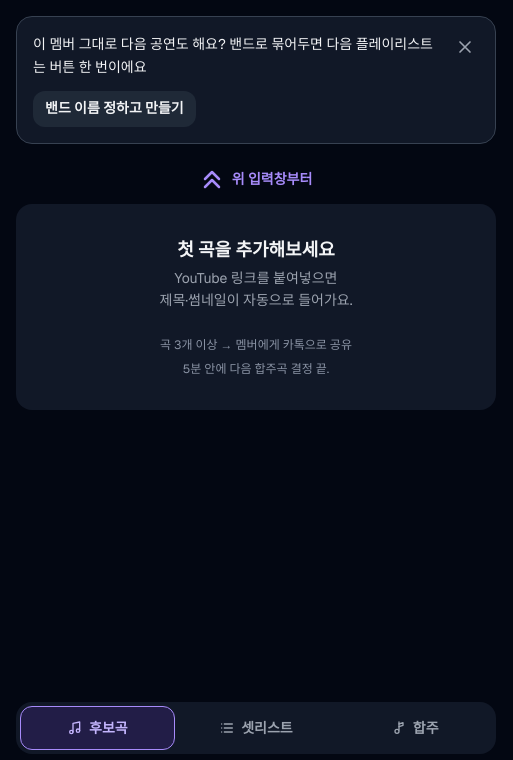
Test: PlaylistClient band prompt (F7, 27A) › remembers a dismissal in the cookie the server reads, so a reload draws no card (DR6)
Click the button named "안내 닫기" at (465,47), box [443,25,487,69]
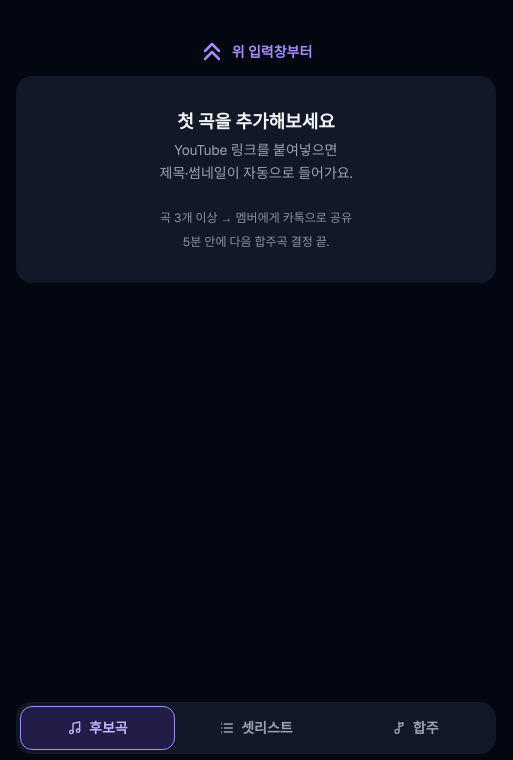
Check: the text "이 멤버 그대로 다음 공연도 해요" is gone
